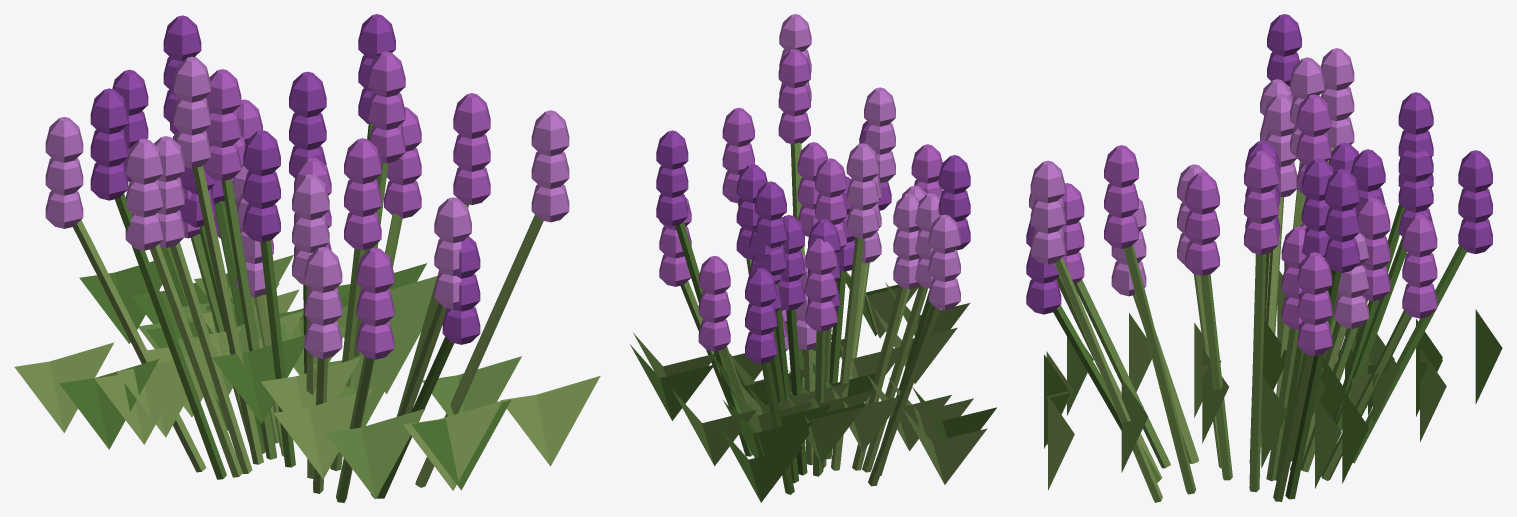
File: lavender_bush.glb
3 renders of one model, left to right at view 1: azimuth 30°, elevation 25°; view 2: azimuth 150°, elevation 25°; view 3: azimuth 270°, elevation 25°, orthographic. The views are drawn at different scales.
Visible parts, largest first — view 1: lavender_bush; view 2: lavender_bush; view 3: lavender_bush.
Part boxes in pixels (x1=…): lavender_bush: x1=14, y1=14, x2=600, y2=502; lavender_bush: x1=630, y1=14, x2=996, y2=502; lavender_bush: x1=1026, y1=14, x2=1502, y2=502.
Bounding box in the file's own units: 1.03 × 0.9255 × 1.06.
